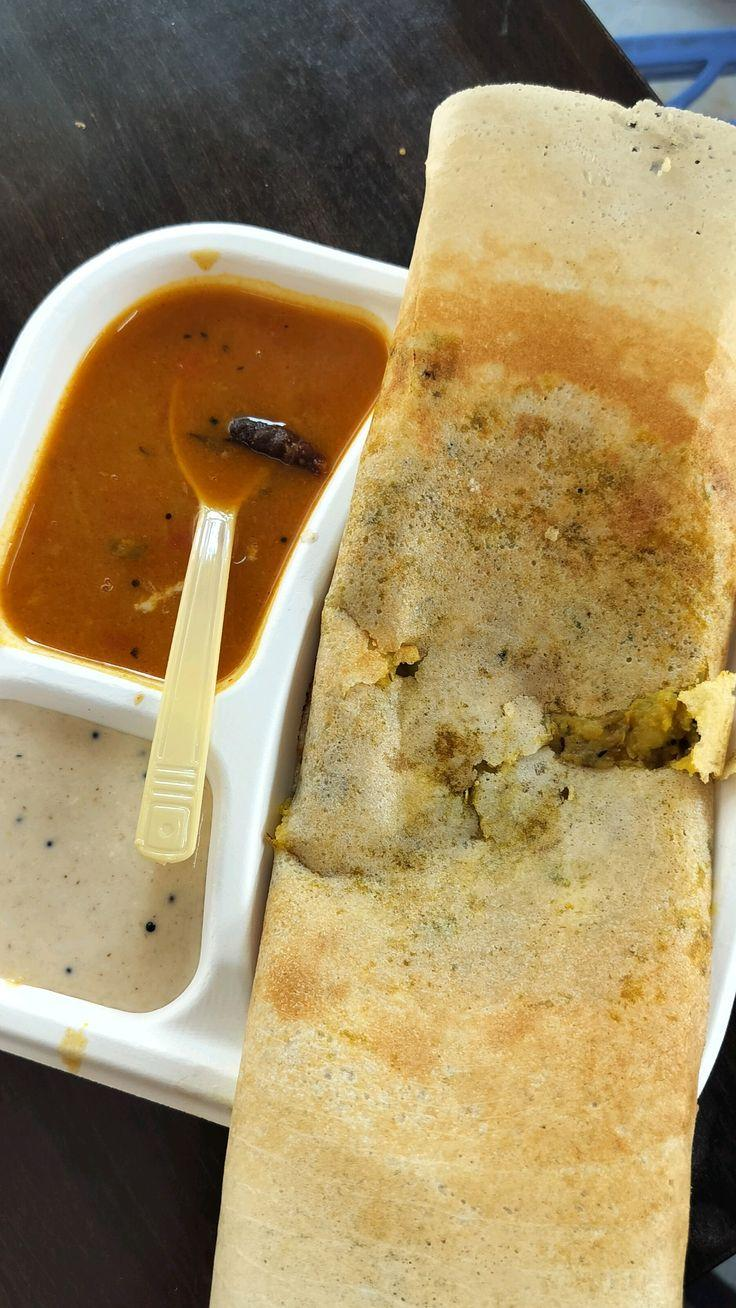dosa: (216, 52, 730, 1308)
